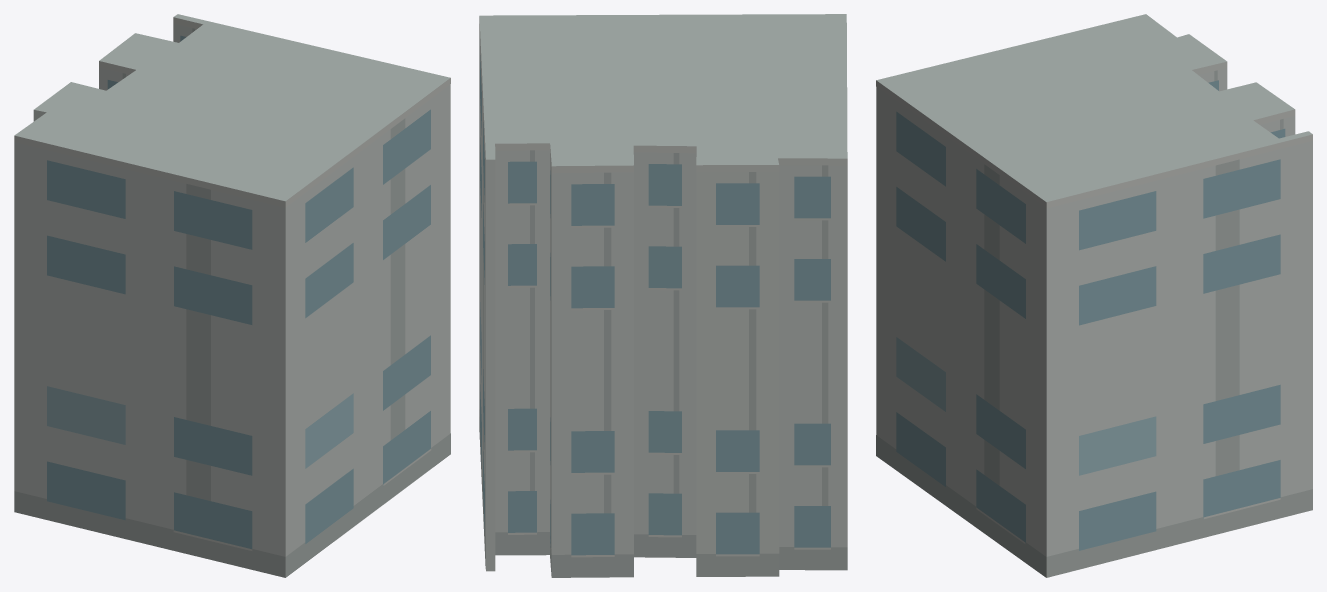
File: survey-upis-32538265.glb
The picture shows the model from 3 angles, left to right: view 1: azimuth 30°, elevation 25°; view 2: azimuth 150°, elevation 25°; view 3: azimuth 270°, elevation 25°; orthographic projection. The views are drawn at different scales.
Parts seen in each view (by area): view 1: survey-upis-32538265.tmp; view 2: survey-upis-32538265.tmp; view 3: survey-upis-32538265.tmp.
Part boxes in pixels (x1=…): survey-upis-32538265.tmp: x1=14, y1=14, x2=450, y2=577; survey-upis-32538265.tmp: x1=479, y1=14, x2=847, y2=577; survey-upis-32538265.tmp: x1=876, y1=14, x2=1312, y2=577.
Bounding box in the file's own units: 15.37 × 14.3 × 15.07.
